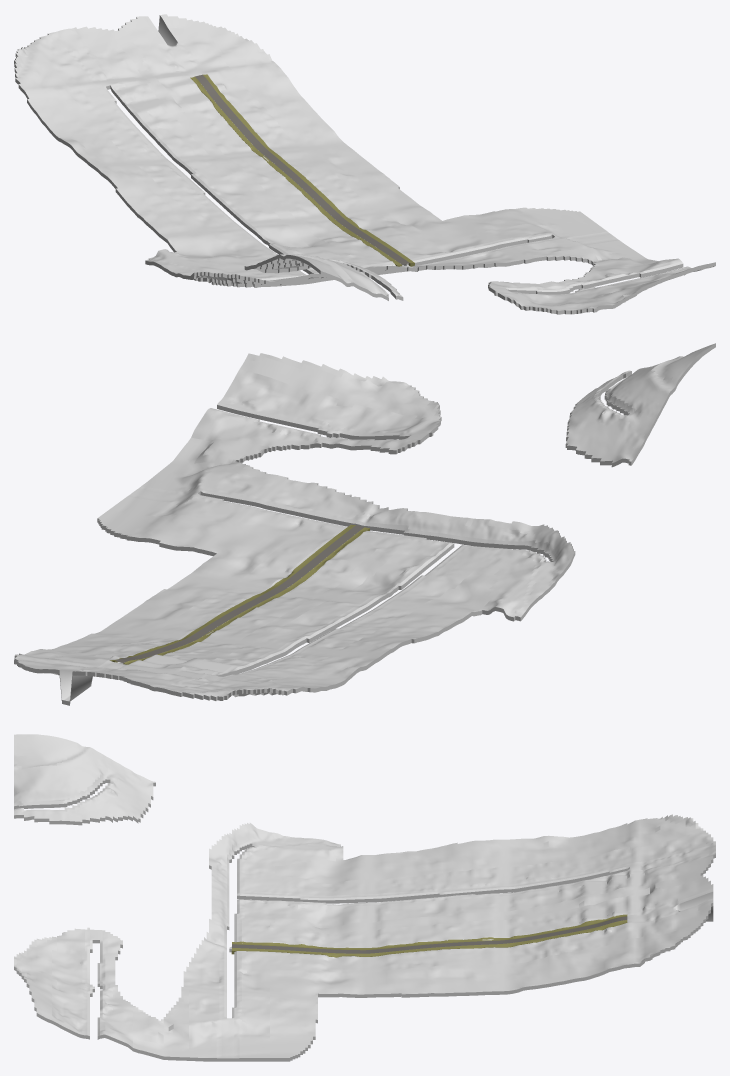
Rendered from conz_118.glb.
3 views of the same model, one above another, from view 1: azimuth 30°, elevation 25°; view 2: azimuth 150°, elevation 25°; view 3: azimuth 270°, elevation 25° (orthographic). The views are drawn at different scales.
Visible parts, largest first — view 1: terrain118, road118, verge118L, verge118R; view 2: terrain118, road118, verge118L, verge118R; view 3: terrain118, road118, verge118R, verge118L.
Boxes of the visible parts, <box> form: terrain118: <box>14,14,715,314</box>; road118: <box>195,74,409,264</box>; verge118L: <box>190,76,402,266</box>; verge118R: <box>203,74,414,266</box>; terrain118: <box>14,343,715,705</box>; road118: <box>115,525,364,662</box>; verge118L: <box>123,527,369,664</box>; verge118R: <box>110,524,355,662</box>; terrain118: <box>14,734,715,1061</box>; road118: <box>232,916,627,953</box>; verge118R: <box>231,920,627,957</box>; verge118L: <box>232,914,627,950</box>.
Size of the model in its own units: 346 by 124 by 554.
